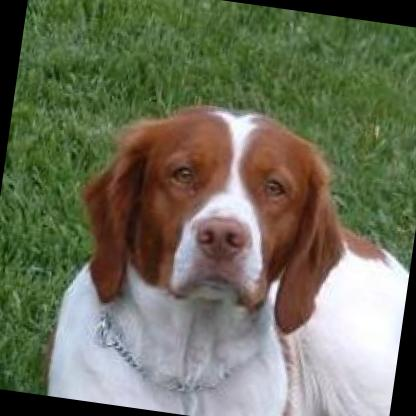Brittany_spaniel: (32, 80, 416, 416)
